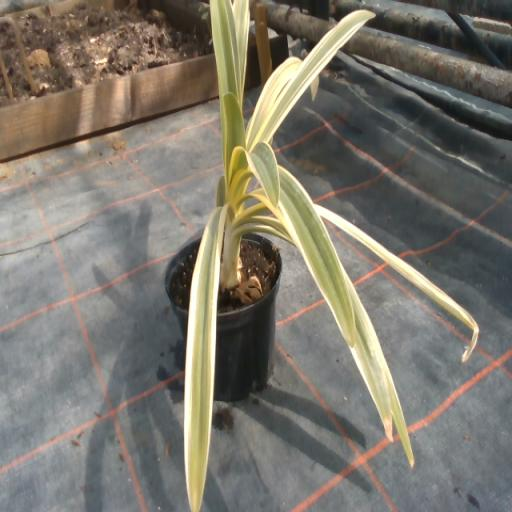Agapanthus-praecox: (314, 205, 478, 361), (253, 11, 374, 141), (276, 167, 355, 346), (185, 207, 226, 511), (350, 297, 391, 436), (210, 0, 242, 169), (247, 58, 302, 133), (230, 143, 279, 205), (388, 367, 414, 466), (222, 93, 245, 171), (234, 0, 249, 100), (311, 76, 318, 99)
